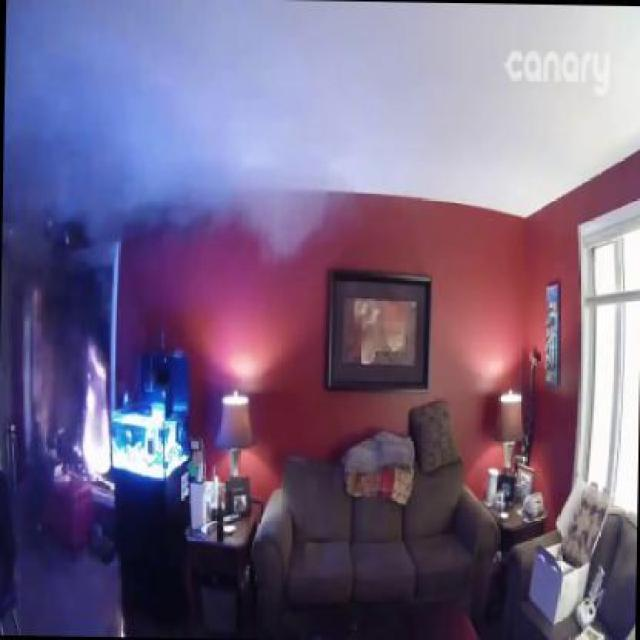fire: (7, 0, 364, 254)
